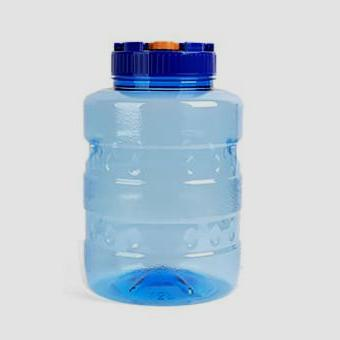bottle: (82, 36, 242, 304)
